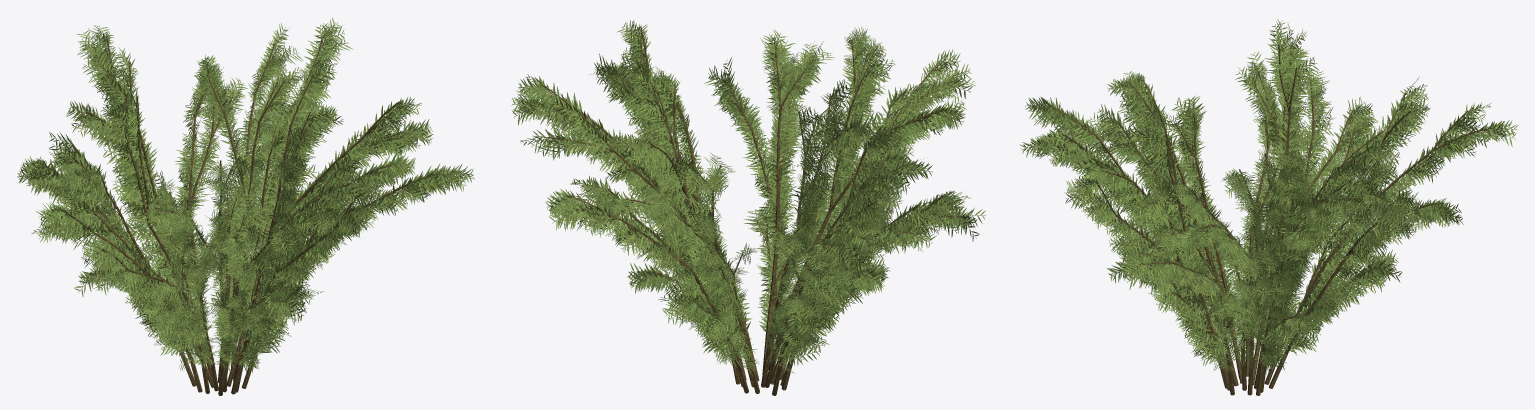
Rendered from willow_shrub_v01.fbx.
The picture shows the model from 3 angles, left to right: view 1: azimuth 30°, elevation 25°; view 2: azimuth 150°, elevation 25°; view 3: azimuth 270°, elevation 25°; orthographic projection. The views are drawn at different scales.
Visible parts, largest first — view 1: willow_shrub_v01; view 2: willow_shrub_v01; view 3: willow_shrub_v01.
Boxes of the visible parts, left/top/right/bottom form: willow_shrub_v01: left=17, top=17, right=474, bottom=395; willow_shrub_v01: left=511, top=20, right=985, bottom=395; willow_shrub_v01: left=1019, top=19, right=1517, bottom=395.
Bounding box in the file's own units: 393 × 320 × 446.
2 materials, 2 textured.
